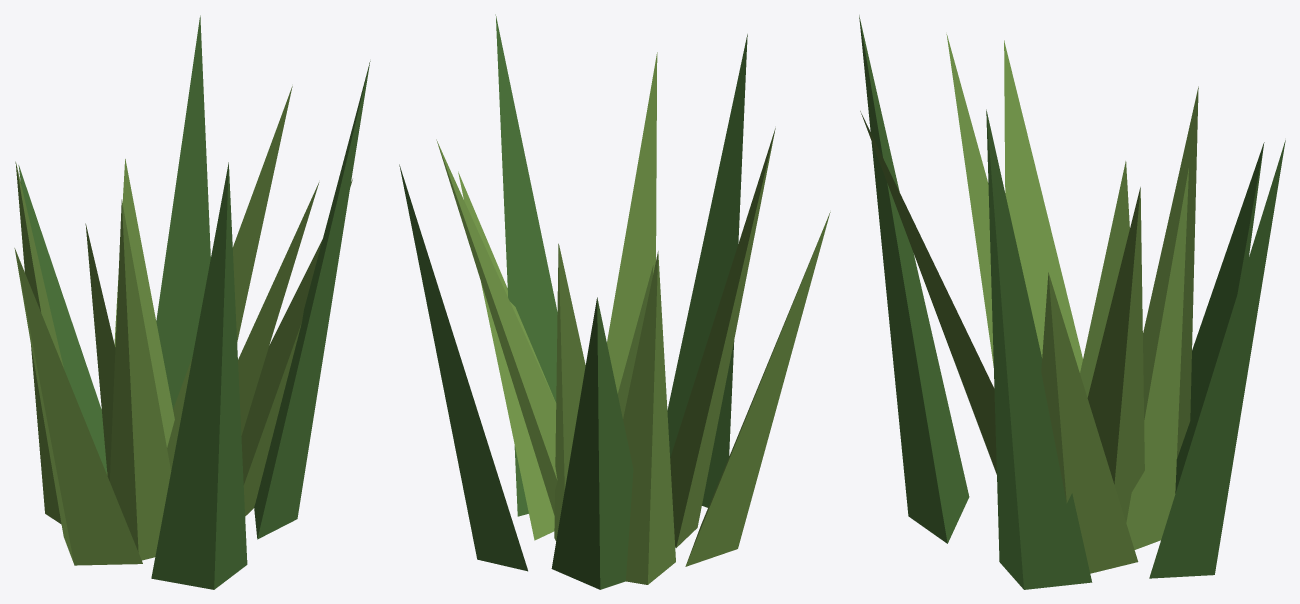
File: grass_tuft_b.fbx
3 renders of one model, left to right at view 1: azimuth 30°, elevation 25°; view 2: azimuth 150°, elevation 25°; view 3: azimuth 270°, elevation 25°, orthographic. The views are drawn at different scales.
Parts seen in each view (by area): view 1: grass_tuft_b; view 2: grass_tuft_b; view 3: grass_tuft_b.
Part boxes in pixels (x1=…): grass_tuft_b: x1=14, y1=15, x2=370, y2=589; grass_tuft_b: x1=399, y1=14, x2=830, y2=589; grass_tuft_b: x1=859, y1=15, x2=1285, y2=589.
Bounding box in the file's own units: 0.3938 × 0.4809 × 0.3634.
